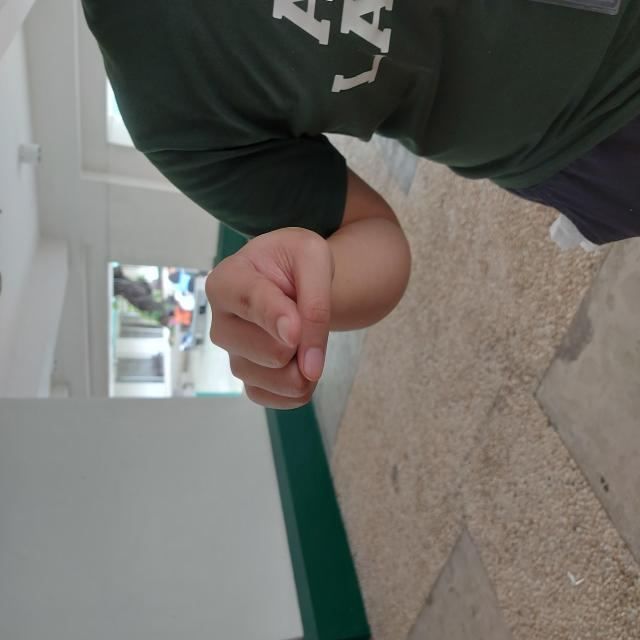Z: (227, 202, 419, 338)
